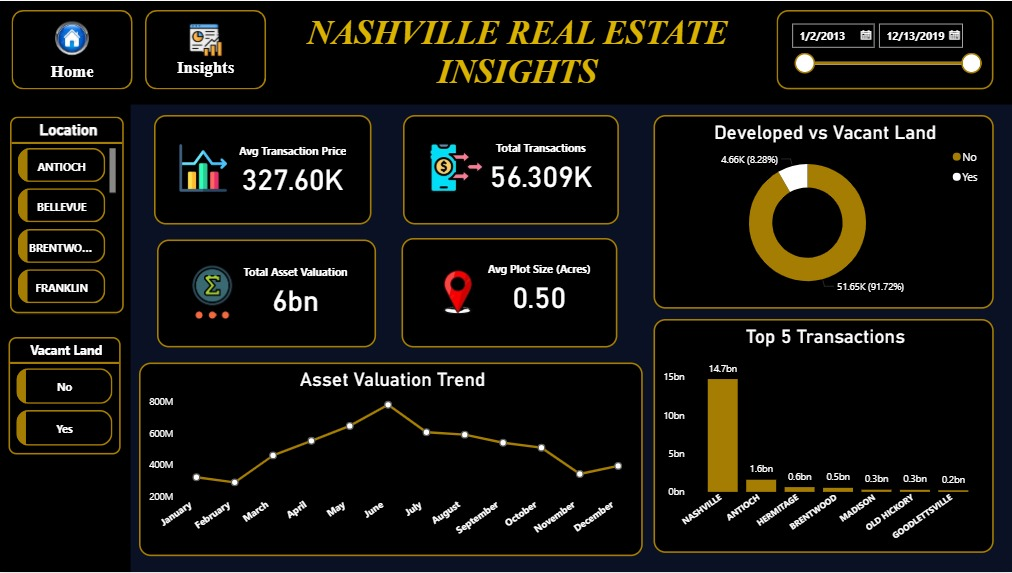

What the dashboard file says about the page in this screenshot:
{"tool":"powerbi","page":{"name":"Insights","canvas":[1280,720],"ordinal":1},"visuals":[{"type":"shape","box":[0,0,167,720.5],"z":0},{"type":"shape","box":[0,0,1278.9,130.4],"z":1000},{"type":"actionButton","box":[184.5,11.1,152.7,100.2],"z":2000},{"type":"textbox","title":"NASHVILLE REAL ESTATE INSIGHTS","box":[370.6,14.3,567.8,93.8],"z":3000},{"type":"actionButton","box":[17.5,11.1,152.7,100.2],"z":4000},{"type":"slicer","fields":{"Values":["public properties.sale_date"]},"box":[981.4,11.1,273.6,100.2],"z":5000},{"type":"advancedSlicerVisual","title":"Location","fields":{"Values":["public properties.property_city"]},"box":[14.3,146.3,143.2,248.1],"z":6000},{"type":"advancedSlicerVisual","title":"Vacant Land","fields":{"Values":["public properties.sold_as_vacant"]},"box":[12.7,423.1,141.6,147.9],"z":7000},{"type":"lineChart","title":"Asset Valuation Trend","fields":{"Category":["public properties.sale_date.Variation.Date Hierarchy.Month"],"Y":["Sum(public properties.total_value)"]},"box":[177.6,455.4,635,243.8],"z":8000},{"type":"cardVisual","fields":{"Data":["Avg(public properties.sale_price)"]},"box":[196.5,143.6,274,138],"z":9000},{"type":"cardVisual","fields":{"Data":["Sum(public properties.total_value)"]},"box":[200.3,300.5,275.9,136.1],"z":10000},{"type":"columnChart","title":"Top 5 Transactions ","fields":{"Category":["public properties.property_city"],"Y":["Sum(public properties.sale_price)"]},"box":[825.8,400.6,429,294.8],"z":11000},{"type":"donutChart","title":"Developed vs Vacant Land","fields":{"Category":["public properties.sold_as_vacant"],"Y":["Count(public properties.unique_id)"]},"box":[825.8,143.6,429,243.8],"z":12000},{"type":"cardVisual","fields":{"Data":["Count(public properties.unique_id)"]},"box":[510.2,143.6,272.1,138],"z":12001},{"type":"cardVisual","fields":{"Data":["Avg(public properties.acreage)"]},"box":[508.4,298.6,272.1,138],"z":12002}]}

Visuals, with their boxes in screenshot pixels (x1, y1, x2, y2), scaled from the page's 1280x720 canvas onto the 1012x573 screenshot:
shape: bbox(0, 0, 132, 572)
shape: bbox(0, 0, 1011, 104)
actionButton: bbox(146, 9, 267, 89)
"NASHVILLE REAL ESTATE INSIGHTS" textbox: bbox(293, 11, 742, 86)
actionButton: bbox(14, 9, 135, 89)
slicer - public properties.sale_date: bbox(776, 9, 992, 89)
"Location" advancedSlicerVisual: bbox(11, 116, 125, 314)
"Vacant Land" advancedSlicerVisual: bbox(10, 337, 122, 454)
"Asset Valuation Trend" lineChart: bbox(140, 362, 642, 556)
cardVisual - Avg(public properties.sale_price): bbox(155, 114, 372, 224)
cardVisual - Sum(public properties.total_value): bbox(158, 239, 376, 347)
"Top 5 Transactions " columnChart: bbox(653, 319, 992, 553)
"Developed vs Vacant Land" donutChart: bbox(653, 114, 992, 308)
cardVisual - Count(public properties.unique_id): bbox(403, 114, 619, 224)
cardVisual - Avg(public properties.acreage): bbox(402, 238, 617, 347)
